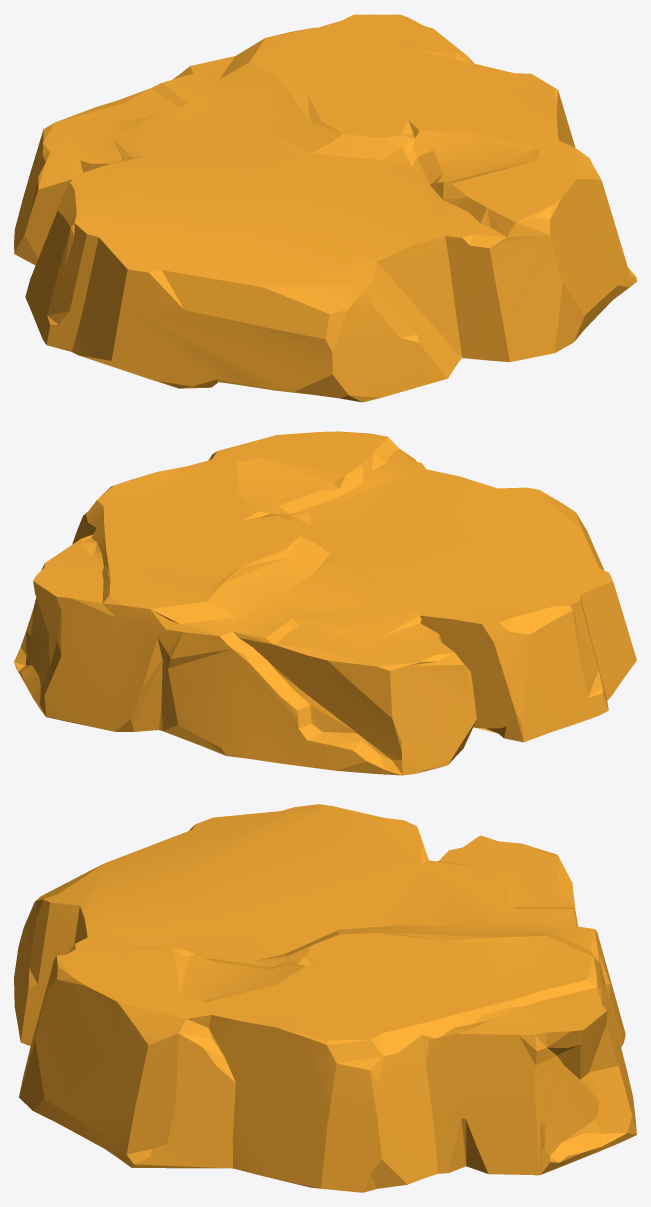
The model's file is SM_Iceberg_Medium_A.fbx.
3 renders of one model, top to bottom at view 1: azimuth 30°, elevation 25°; view 2: azimuth 150°, elevation 25°; view 3: azimuth 270°, elevation 25°, orthographic. The views are drawn at different scales.
Visible parts, largest first — view 1: iceberg-medium-a; view 2: iceberg-medium-a; view 3: iceberg-medium-a.
Part boxes in pixels (left/top/right/bottom): iceberg-medium-a: left=14, top=14, right=636, bottom=402; iceberg-medium-a: left=14, top=431, right=636, bottom=775; iceberg-medium-a: left=14, top=804, right=636, bottom=1192.
Size of the model in its own units: 9.34 by 2.17 by 8.5.
